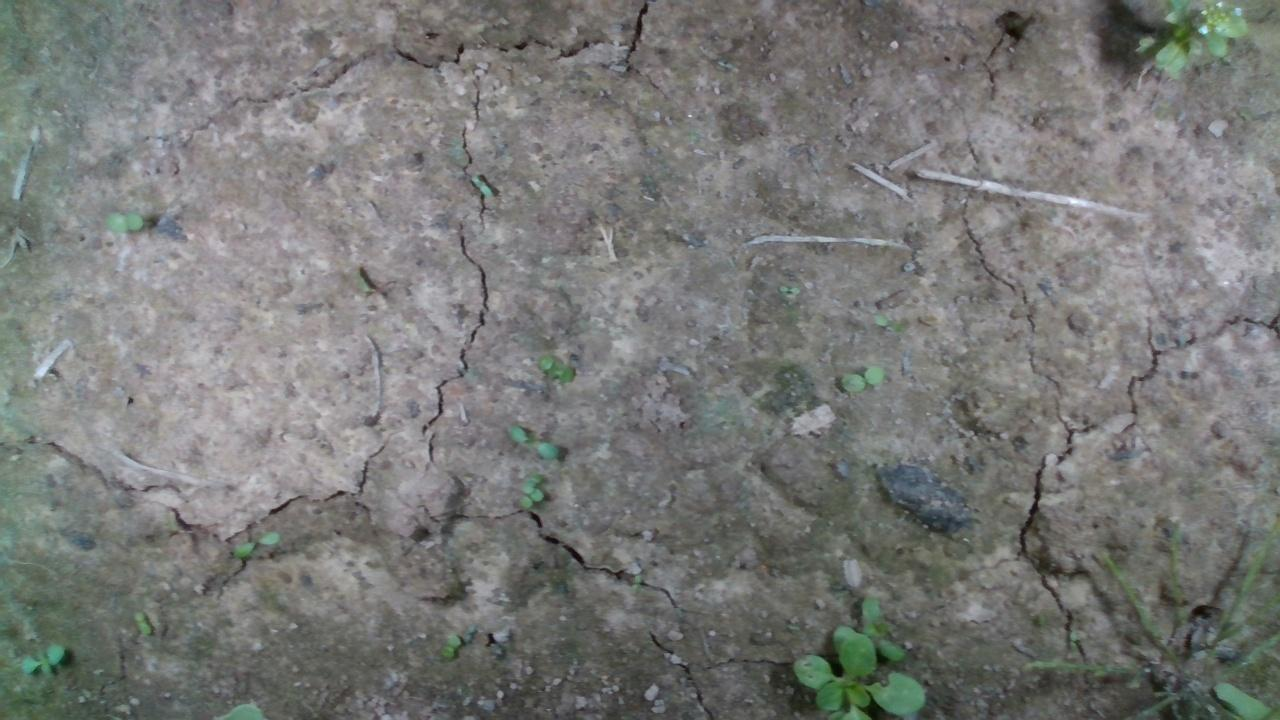weed: (498, 424, 563, 462), (834, 361, 898, 398), (505, 476, 554, 510), (462, 168, 502, 203), (532, 350, 573, 384)
